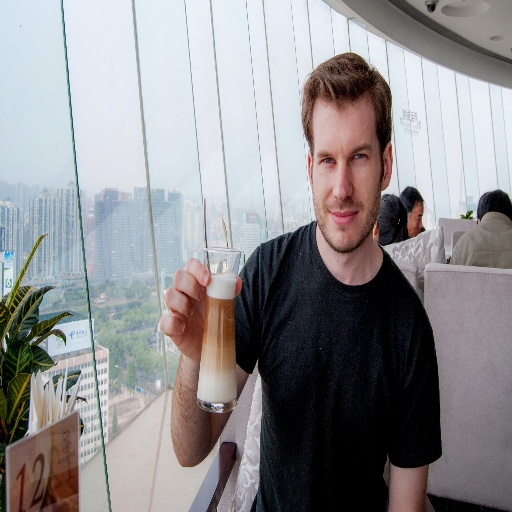hand: (156, 256, 208, 358)
